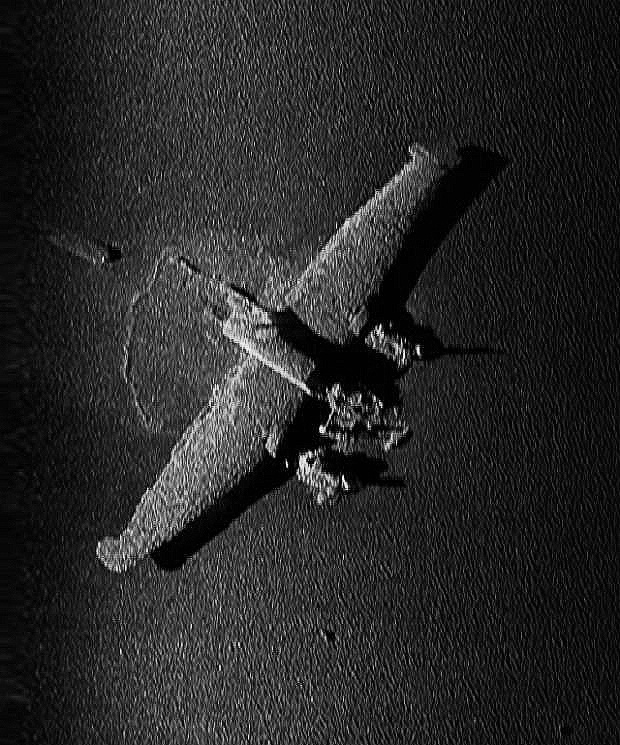plane: (93, 140, 441, 570)
